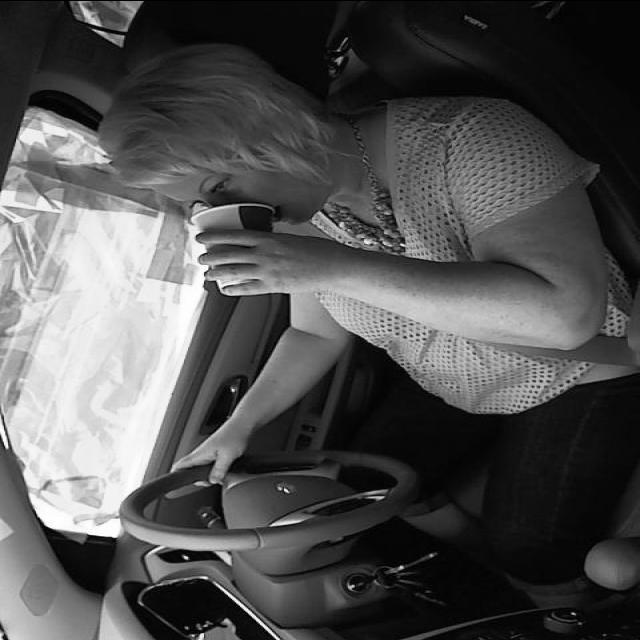drinking: (178, 198, 300, 302)
